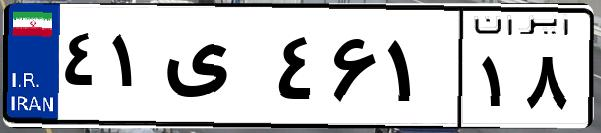1: (385, 28, 445, 110), (475, 38, 525, 113), (110, 28, 158, 98)
4: (270, 28, 330, 110), (57, 26, 110, 100)
6: (330, 28, 385, 110)
8: (525, 38, 570, 115)
ی: (158, 20, 270, 120)
